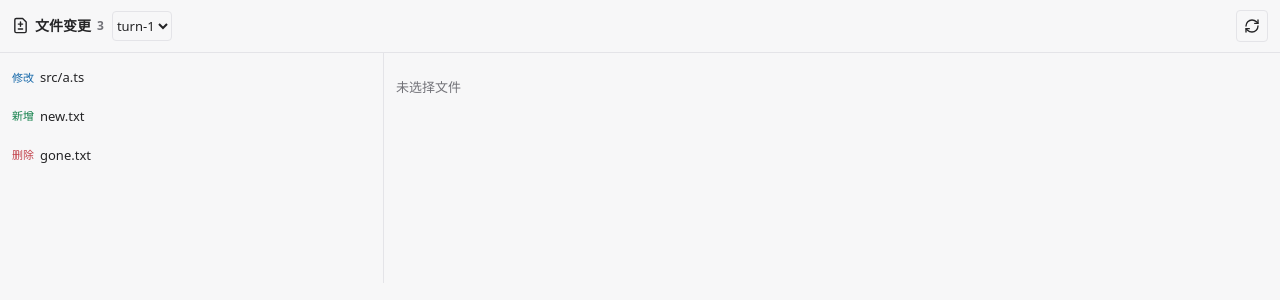
FileReview › lists real add/delete/modify changes and loads only the selected diff
Expected: the button "新增 new.txt" is shown, [6, 98, 377, 135]
Expected: the button "删除 gone.txt" is shown, [6, 137, 377, 173]
Click the button "修改 src/a.ts".
click(62, 77)  # box [6, 59, 377, 96]
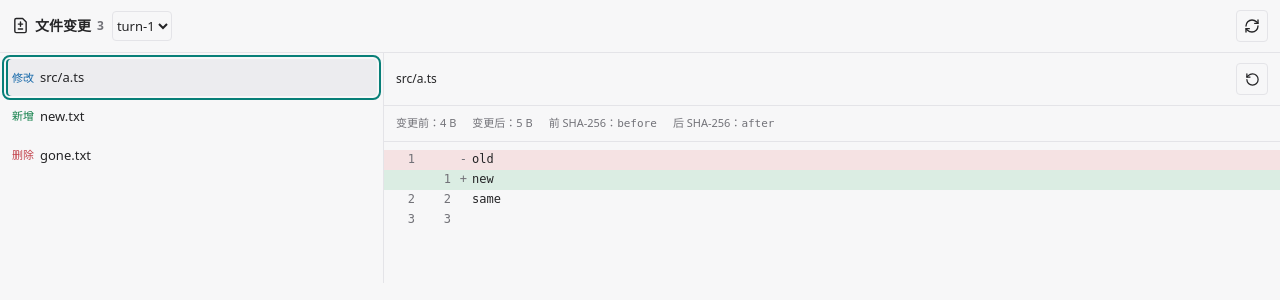
Expected: the text "old" is shown, [472, 152, 494, 166]
Expected: the text "new" is shown, [472, 172, 494, 186]
